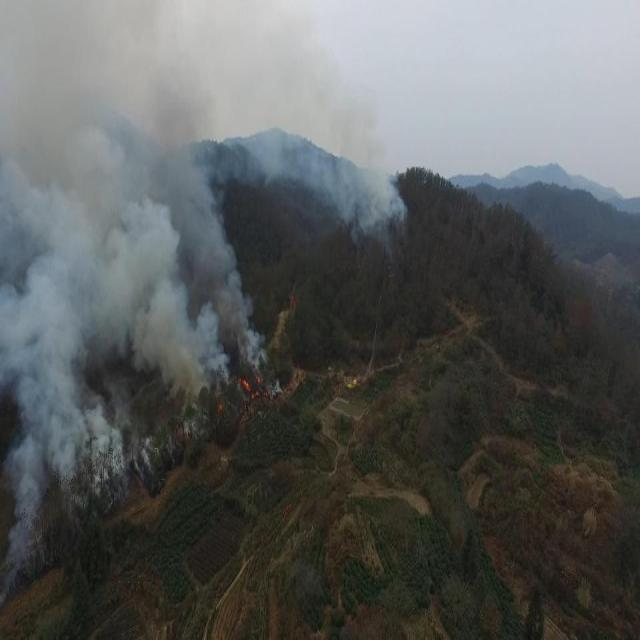Fire: (241, 372, 264, 400)
Smoke: (1, 1, 408, 606)
